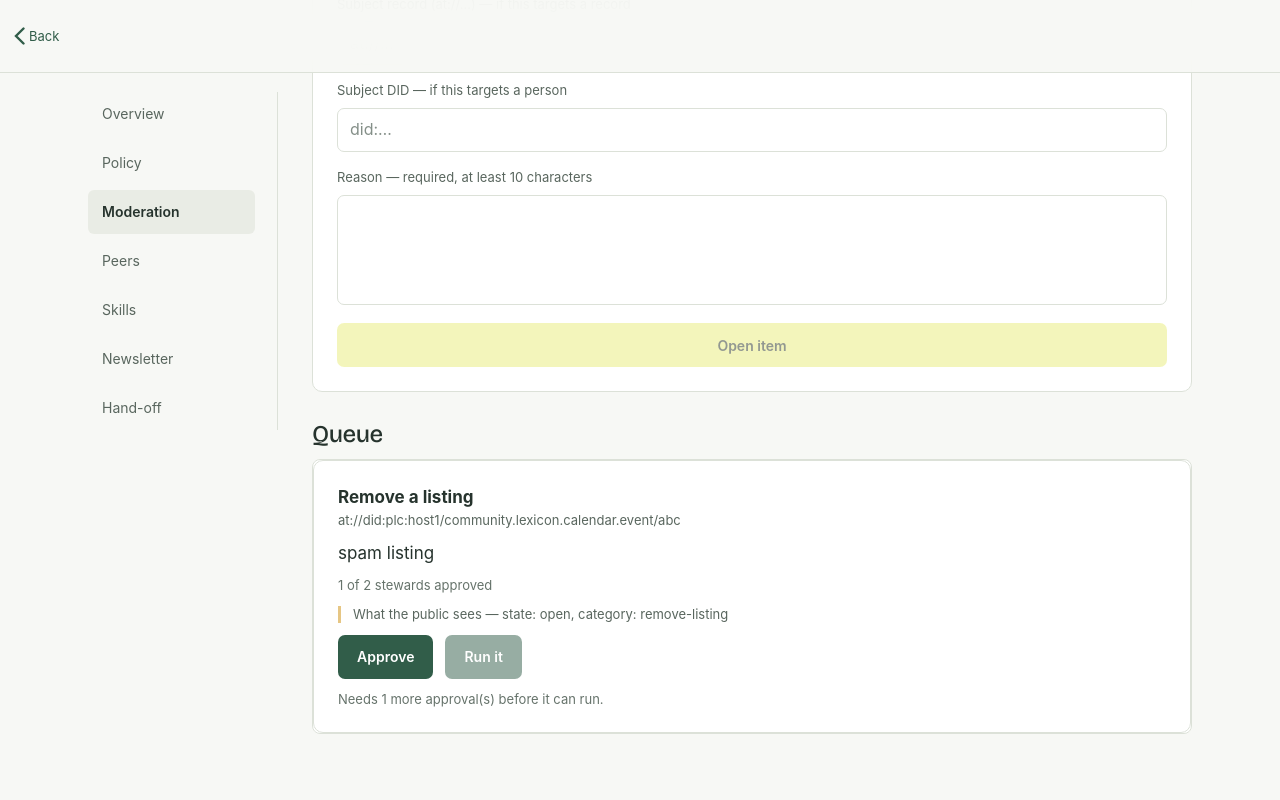
ModerationScreen › maps the server's 409 AlreadyApproved to a specific sentence, never the generic fallback
(page scrolled)
Expected: the text "spam listing" is shown, [338,543,434,563]
Click the button "Approve" at (386, 657), box [338,635,433,679]
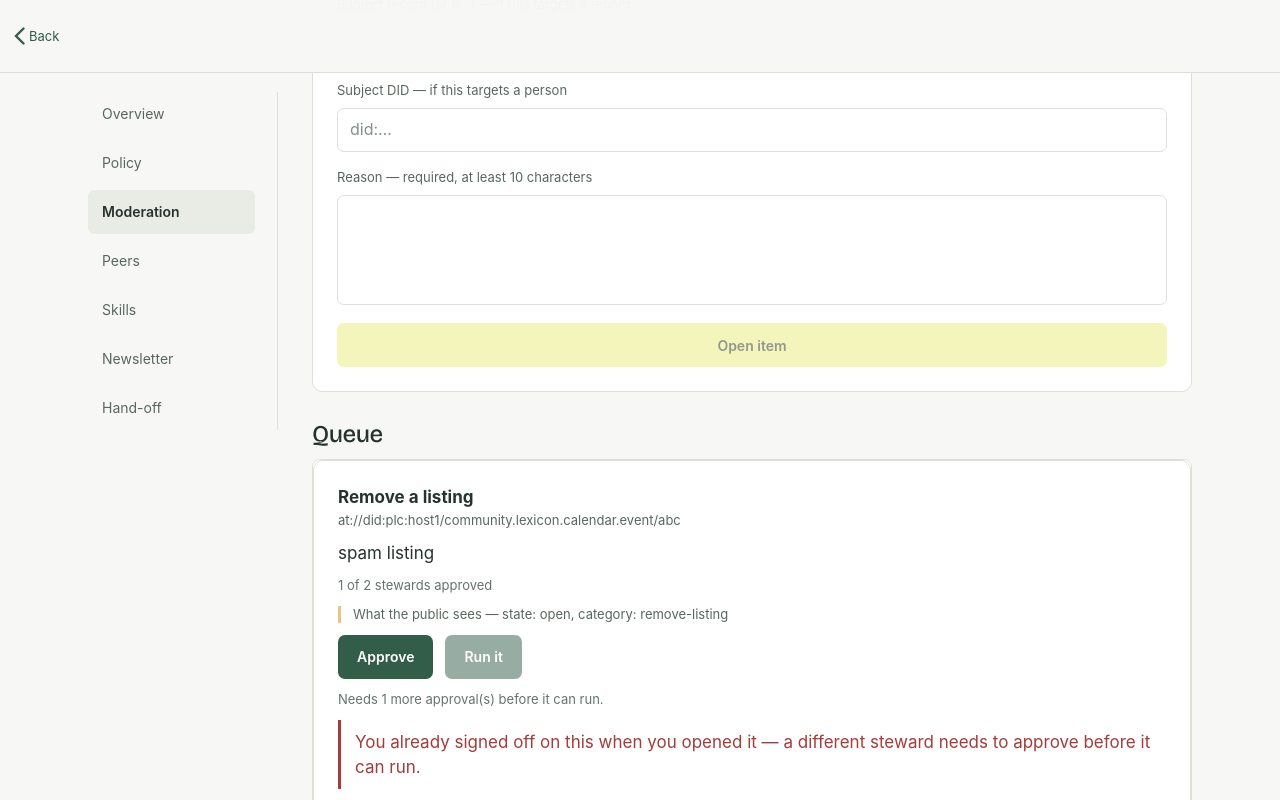
Expected: the text "a different steward needs to approve before it can run" is shown, [355,732,1150,777]
